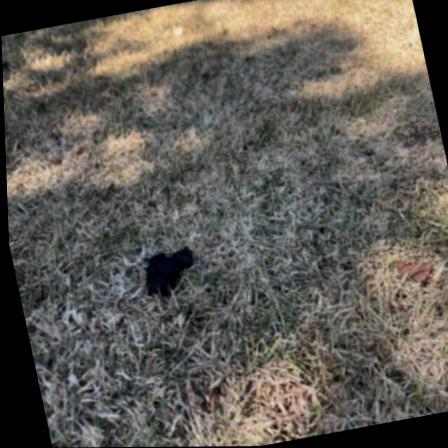dog-poop: (133, 244, 198, 304)
